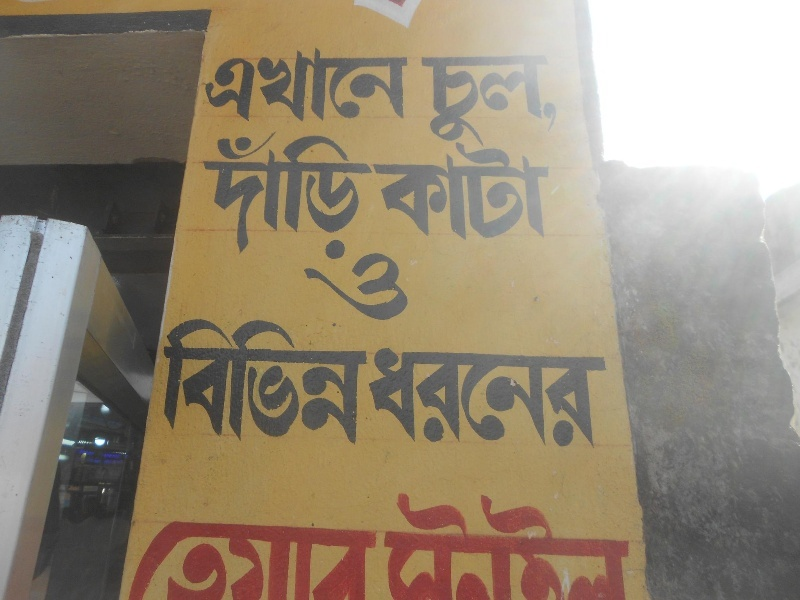text: (353, 318, 369, 446), (209, 130, 224, 262), (225, 130, 240, 262), (241, 130, 256, 262), (257, 130, 272, 262), (273, 130, 288, 262), (289, 130, 304, 262), (305, 130, 320, 262), (321, 130, 336, 262), (337, 130, 352, 262), (353, 130, 368, 262), (177, 318, 192, 446), (193, 318, 208, 446), (209, 318, 224, 446), (225, 318, 240, 446), (241, 318, 256, 446), (257, 318, 272, 446), (273, 318, 288, 446), (289, 318, 304, 446), (305, 318, 320, 446), (321, 318, 336, 446), (337, 318, 352, 446), (177, 488, 192, 600), (193, 488, 208, 600), (209, 488, 224, 600), (225, 488, 240, 600), (241, 488, 256, 600), (257, 488, 272, 600), (273, 488, 288, 600), (289, 488, 304, 600), (305, 488, 320, 600), (321, 488, 336, 600), (337, 488, 352, 600), (353, 488, 368, 600), (369, 488, 384, 600), (385, 488, 400, 600), (401, 488, 416, 600), (417, 488, 432, 600), (433, 488, 448, 600), (449, 488, 464, 600), (465, 488, 480, 600), (481, 488, 496, 600), (497, 488, 512, 600), (513, 488, 528, 600), (529, 488, 544, 600), (545, 488, 560, 600), (561, 488, 576, 600), (577, 488, 592, 600), (593, 488, 608, 600), (609, 488, 624, 600), (369, 349, 384, 450), (385, 349, 400, 450), (401, 349, 416, 450), (417, 349, 432, 450), (433, 349, 448, 450), (449, 349, 464, 450), (465, 349, 480, 450), (481, 349, 496, 450), (497, 349, 512, 450), (513, 349, 528, 450), (529, 349, 544, 450), (545, 349, 560, 450), (561, 349, 576, 450), (577, 349, 592, 450), (385, 142, 400, 243), (401, 142, 416, 243), (417, 142, 432, 243), (433, 142, 448, 243), (449, 142, 464, 243), (465, 142, 480, 243), (481, 142, 496, 243), (497, 142, 512, 243), (513, 142, 528, 243), (529, 142, 544, 243), (433, 56, 448, 146), (449, 56, 464, 146), (465, 56, 480, 146), (481, 56, 496, 146), (497, 56, 512, 146), (513, 56, 528, 146), (529, 56, 544, 146), (593, 349, 606, 450), (165, 488, 176, 600), (625, 488, 636, 600), (372, 142, 384, 243), (225, 45, 240, 122), (241, 45, 256, 122), (257, 45, 272, 122), (273, 45, 288, 122), (289, 45, 304, 122), (305, 45, 320, 122), (321, 45, 336, 122), (337, 45, 352, 122), (353, 45, 368, 122), (369, 45, 384, 122), (385, 45, 400, 122), (167, 318, 176, 446), (321, 253, 336, 322), (337, 253, 352, 322), (353, 253, 368, 322), (369, 253, 384, 322), (385, 253, 400, 322), (421, 56, 432, 146), (545, 56, 556, 146), (306, 253, 320, 322), (212, 45, 224, 122), (401, 45, 412, 122), (203, 130, 208, 262), (369, 130, 374, 262), (401, 253, 410, 322), (545, 142, 547, 243)
